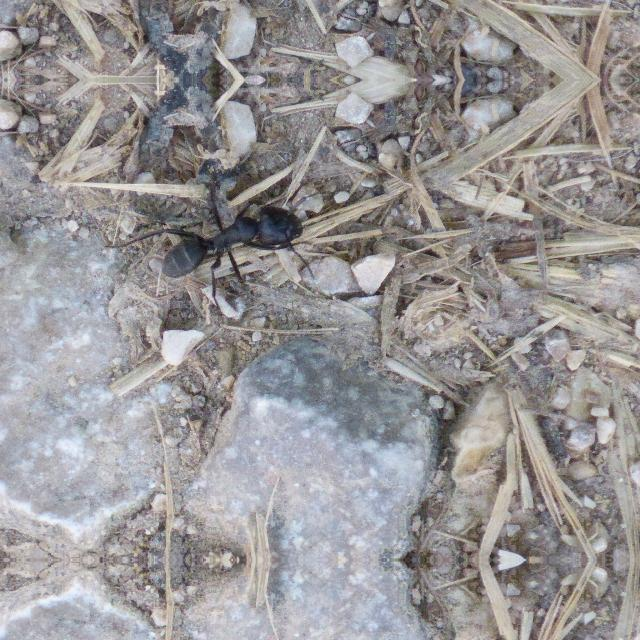Camponotus: (112, 172, 338, 310)
